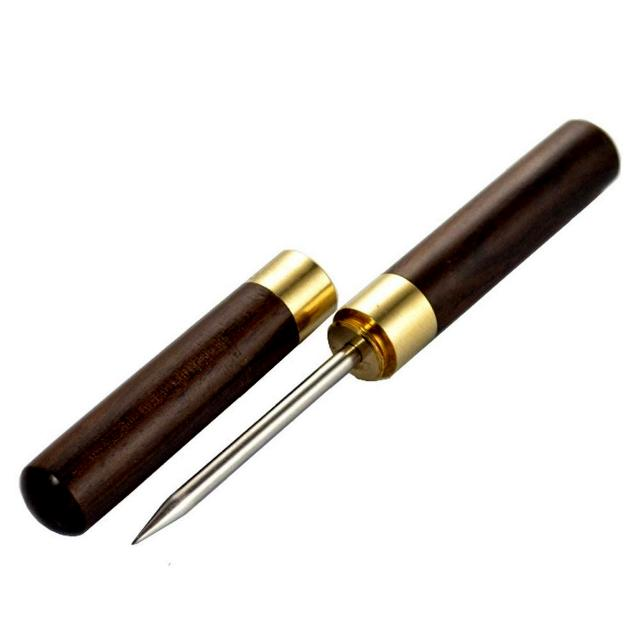ice pick: (132, 117, 624, 548)
